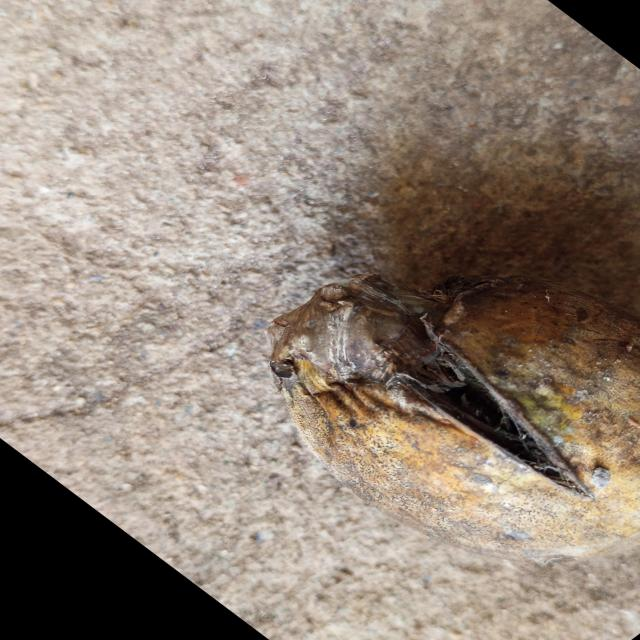damaged: (270, 278, 640, 559)
